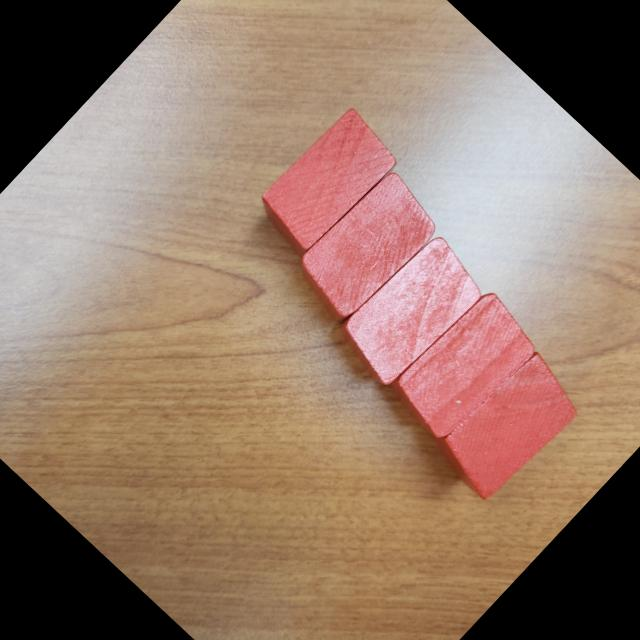red: (425, 341, 590, 508), (382, 285, 546, 452), (330, 228, 493, 394), (288, 165, 448, 328), (248, 103, 404, 261)
